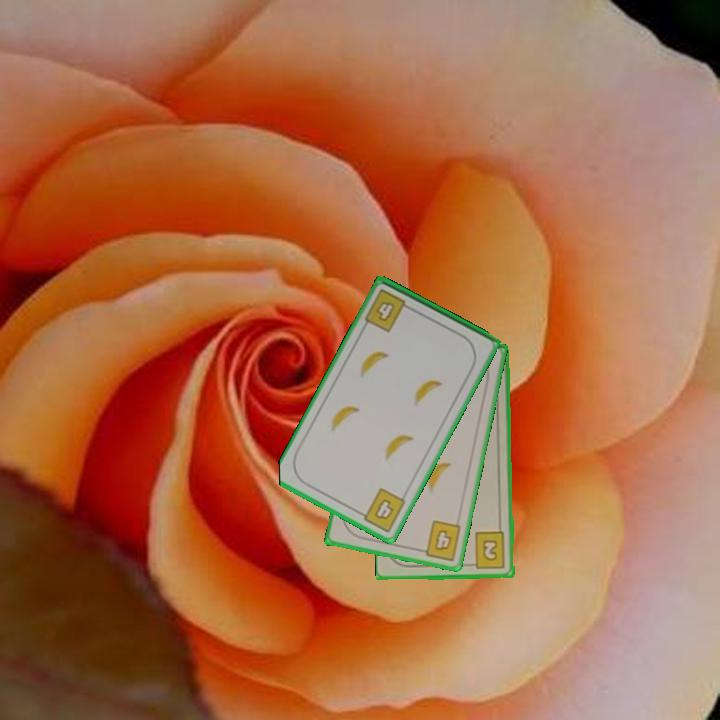2b: (466, 529, 508, 571)
4b: (354, 484, 409, 535), (361, 285, 416, 335), (415, 517, 464, 564)
